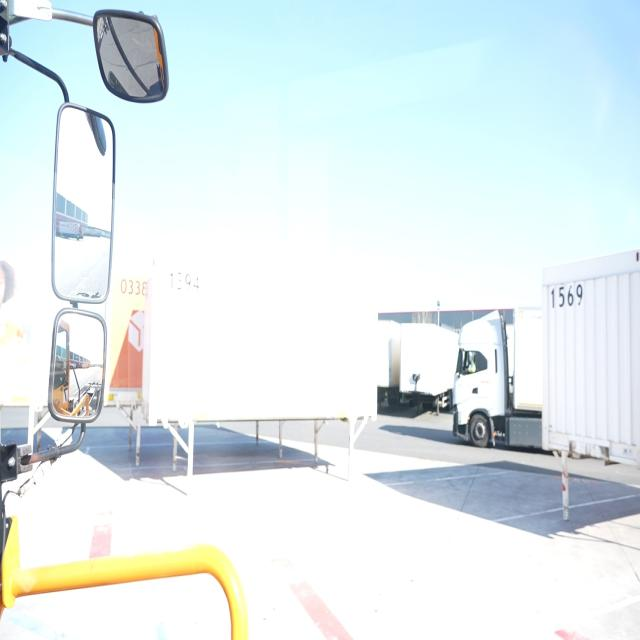Code: (546, 277, 586, 308)
